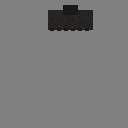armoured_vehicle: (48, 10, 93, 30)
